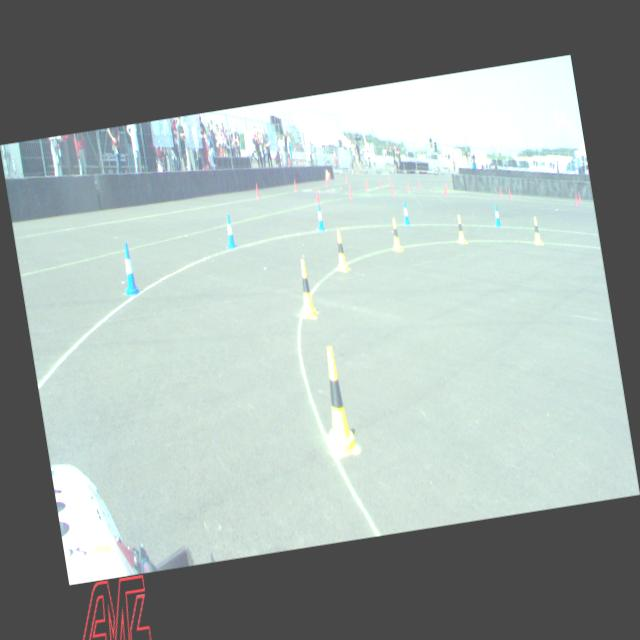blue_cone: (117, 242, 139, 296), (223, 215, 236, 248), (314, 204, 326, 232), (492, 204, 502, 227), (402, 202, 411, 225)
unknown_cone: (254, 184, 260, 198), (292, 178, 298, 191), (348, 185, 353, 198), (316, 190, 320, 204), (443, 186, 448, 197), (390, 184, 394, 197), (574, 193, 578, 206), (406, 180, 410, 192), (324, 176, 328, 187), (378, 177, 382, 188), (498, 185, 502, 196), (508, 188, 512, 199), (364, 180, 368, 190), (578, 192, 582, 202), (344, 174, 348, 183), (388, 177, 391, 186), (329, 172, 332, 180), (446, 182, 448, 193), (418, 180, 420, 190)
yellow_cone: (314, 346, 358, 456), (294, 260, 317, 318), (332, 229, 348, 272), (388, 218, 403, 252), (454, 214, 466, 243), (530, 217, 542, 244)
